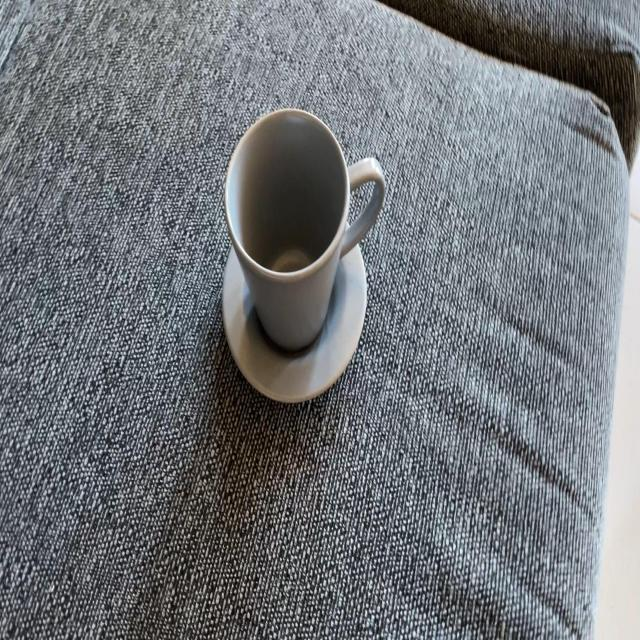cup: (214, 111, 379, 413)
